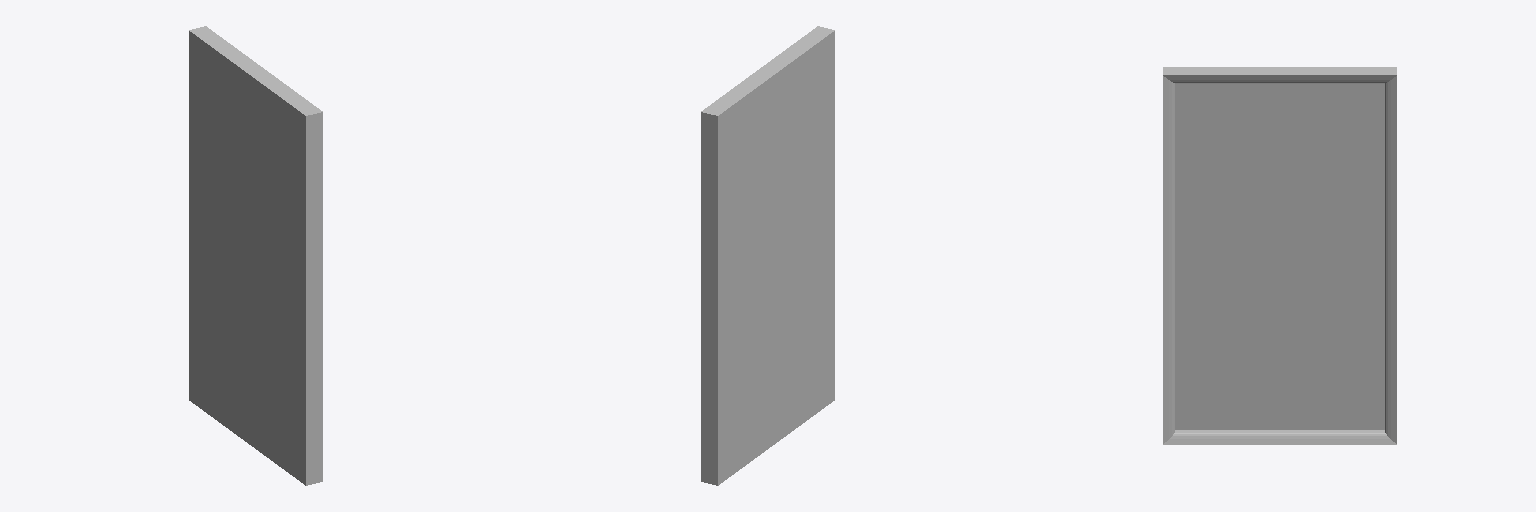
File: Mirror.obj
3 renders of one model, left to right at view 1: azimuth 30°, elevation 25°; view 2: azimuth 150°, elevation 25°; view 3: azimuth 270°, elevation 25°, orthographic.
Visible parts, largest first — view 1: Cube.007; view 2: Cube.007; view 3: Cube.007.
Boxes of the visible parts, box(x1,y1,x2,y2) form: Cube.007: box(189, 26, 322, 485); Cube.007: box(701, 26, 834, 485); Cube.007: box(1163, 67, 1396, 444).
Size of the model in its own units: 0.1696 by 3.48 by 2.